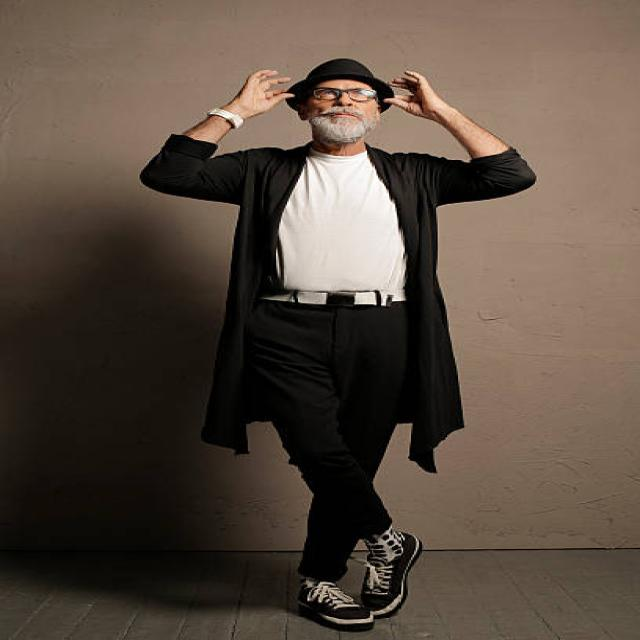Real human 2: (122, 42, 558, 640)
